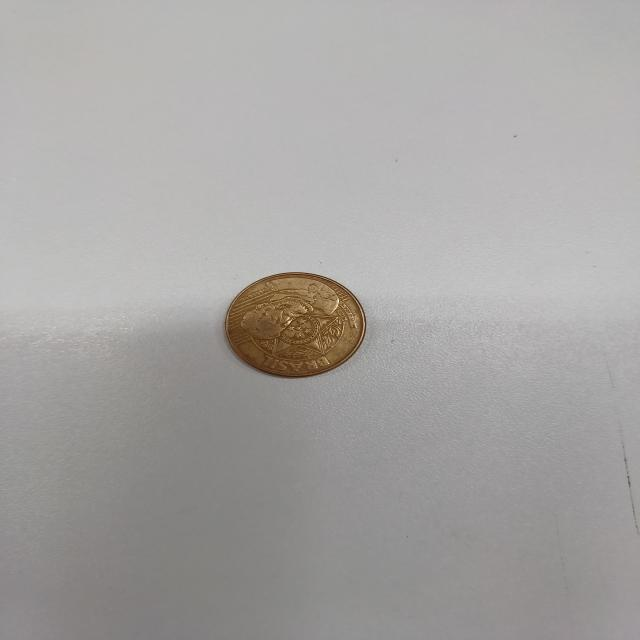25 cents: (220, 266, 367, 380)
